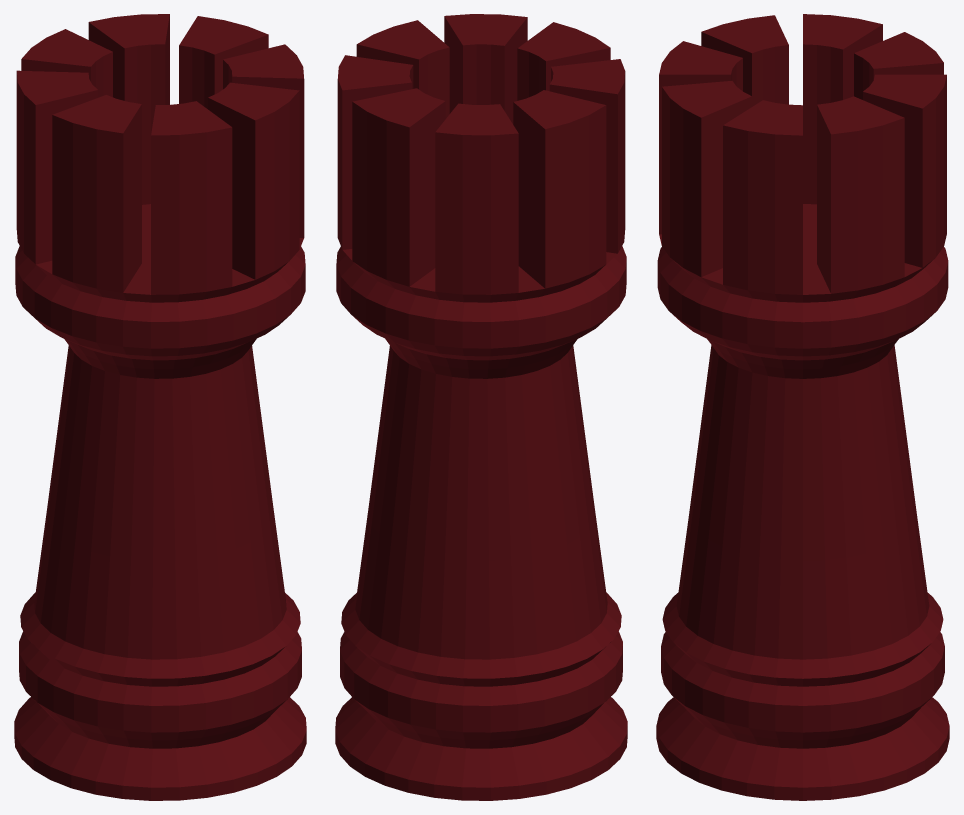
File: rook_2.dae
The picture shows the model from 3 angles, left to right: view 1: azimuth 30°, elevation 25°; view 2: azimuth 150°, elevation 25°; view 3: azimuth 270°, elevation 25°; orthographic projection.
Parts seen in each view (by area): view 1: Circle; view 2: Circle; view 3: Circle.
Boxes of the visible parts, <box> form: Circle: <box>14,14,306,800</box>; Circle: <box>335,14,627,800</box>; Circle: <box>656,14,949,800</box>.
Bounding box in the file's own units: 1 × 1 × 2.5.
